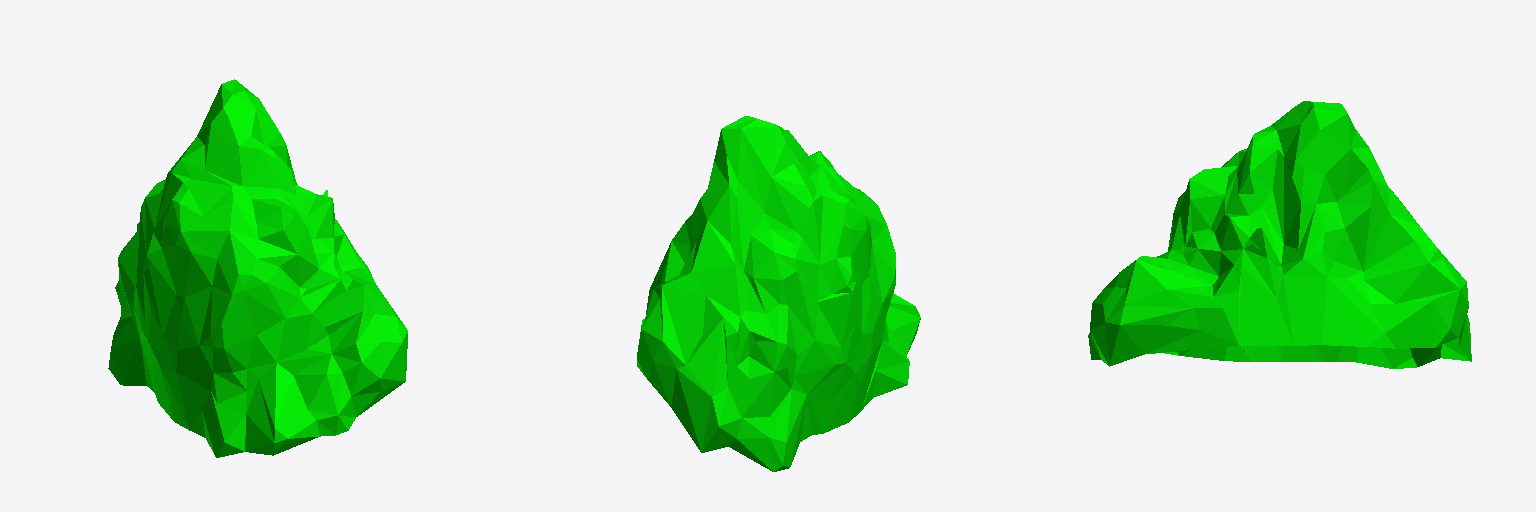
The model's file is Mountain.obj.
The picture shows the model from 3 angles: view 1: azimuth 30°, elevation 25°; view 2: azimuth 150°, elevation 25°; view 3: azimuth 270°, elevation 25°; orthographic projection.
Visible parts, largest first — view 1: Sphere005; view 2: Sphere005; view 3: Sphere005.
Part boxes in pixels (x1,y1,x2,y2): Sphere005: (108, 79, 407, 457); Sphere005: (637, 116, 920, 471); Sphere005: (1088, 101, 1471, 368).
Bounding box in the file's own units: 94160 × 138129 × 158358.